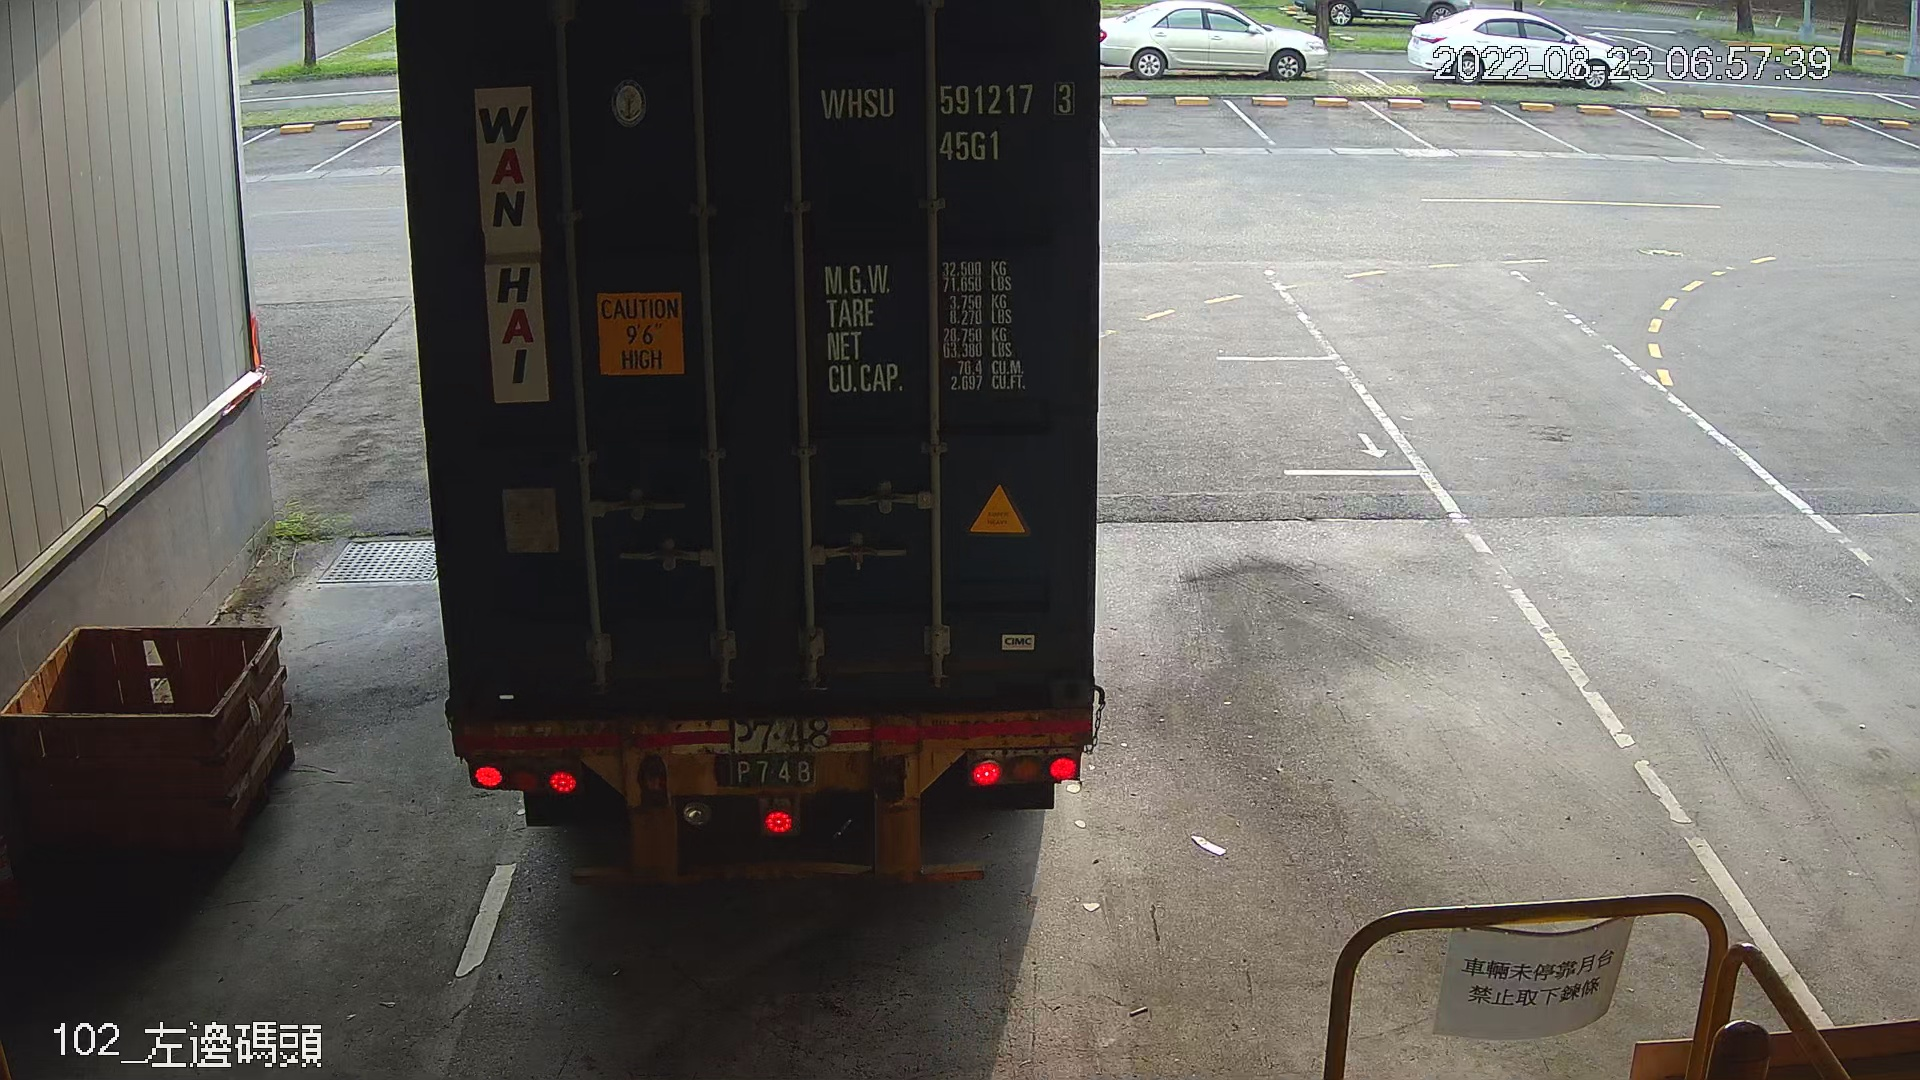container: (812, 73, 1084, 169)
